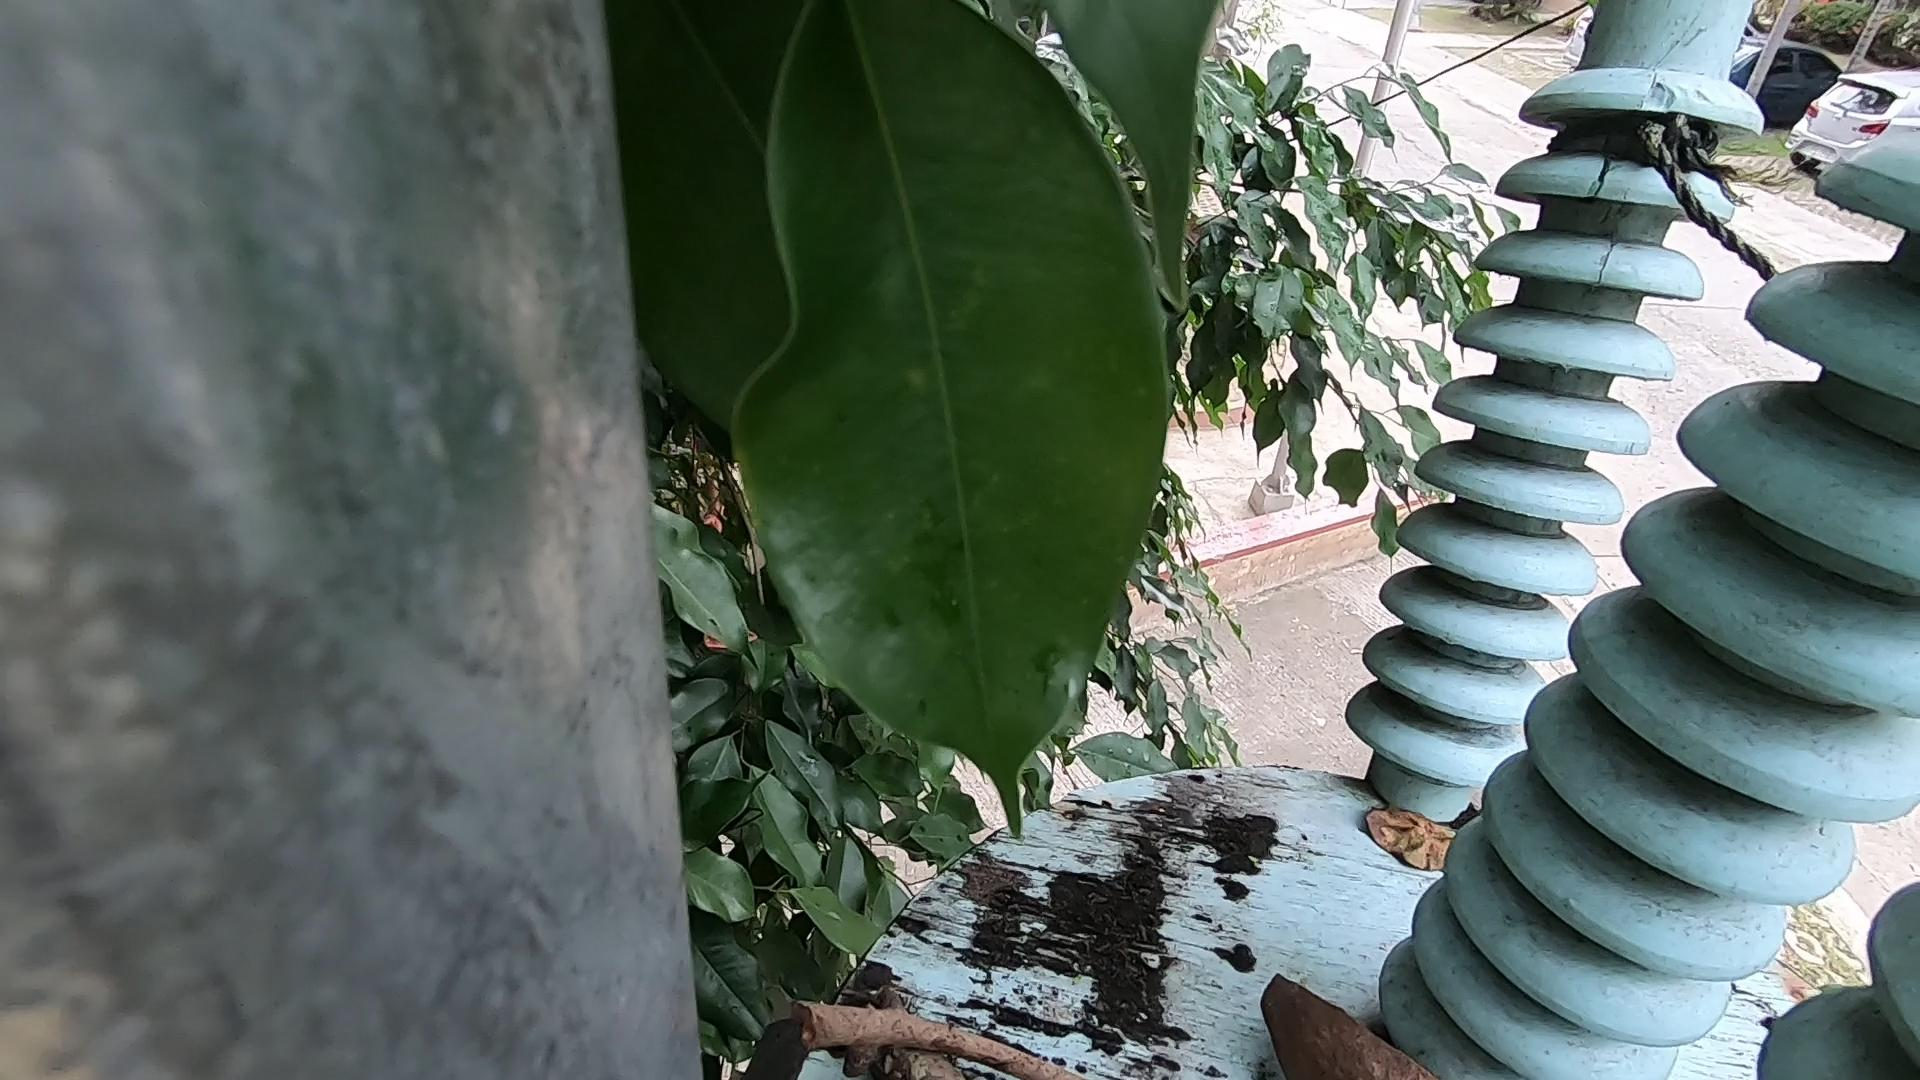branch with leaves: (855, 963, 928, 1080)
leaf: (1352, 803, 1518, 878)
mahogany fruit: (1241, 967, 1443, 1065)
tree branch: (799, 1011, 1120, 1080)
